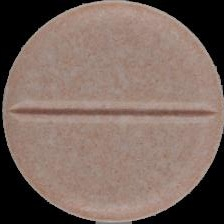16714-313: (0, 0, 224, 224)
